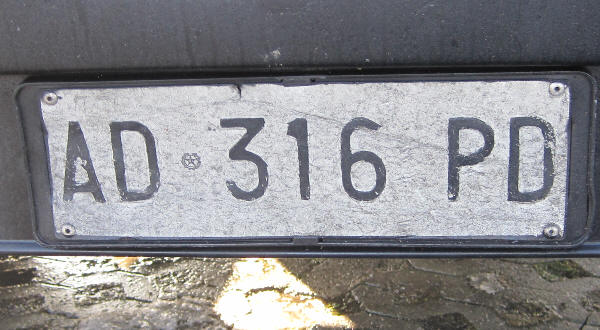license_plate: (40, 81, 570, 241)
